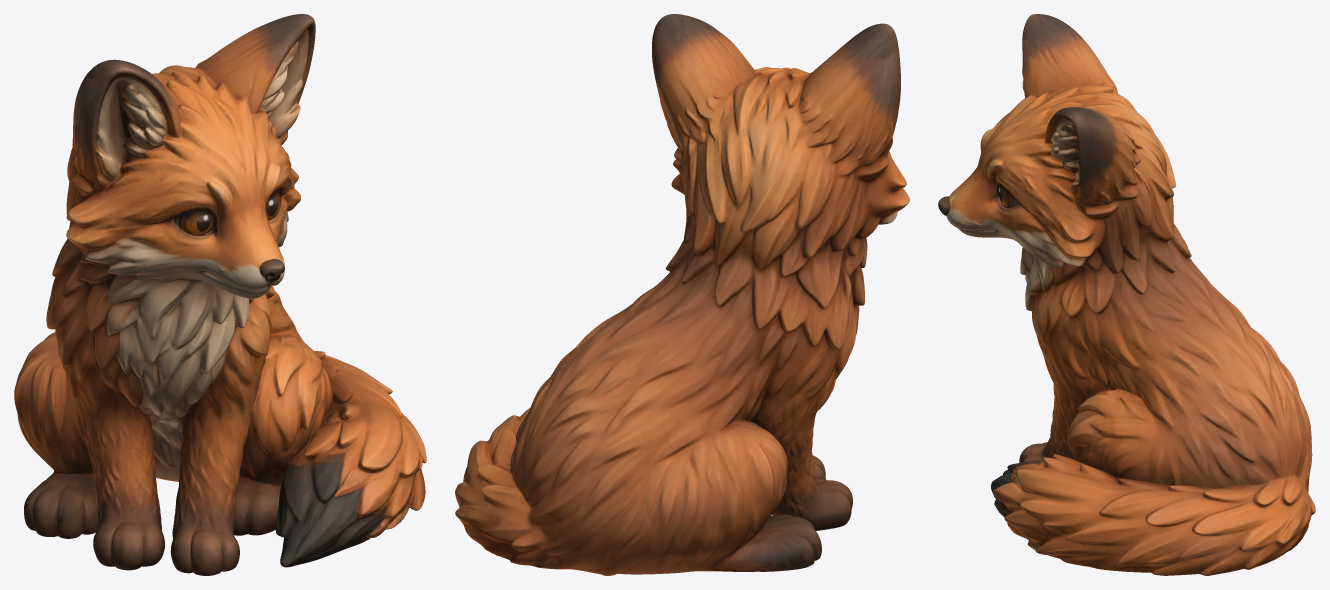
The model's file is s1_fox.glb.
The picture shows the model from 3 angles, left to right: view 1: azimuth 30°, elevation 25°; view 2: azimuth 150°, elevation 25°; view 3: azimuth 270°, elevation 25°; orthographic projection. The views are drawn at different scales.
Parts seen in each view (by area): view 1: mesh_node; view 2: mesh_node; view 3: mesh_node.
Part boxes in pixels (bbox=[...]): mesh_node: bbox=[14, 14, 426, 575]; mesh_node: bbox=[455, 14, 909, 575]; mesh_node: bbox=[938, 14, 1315, 575].
Size of the model in its own units: 1.48 by 1.9 by 1.53.
1 material, 1 textured.
